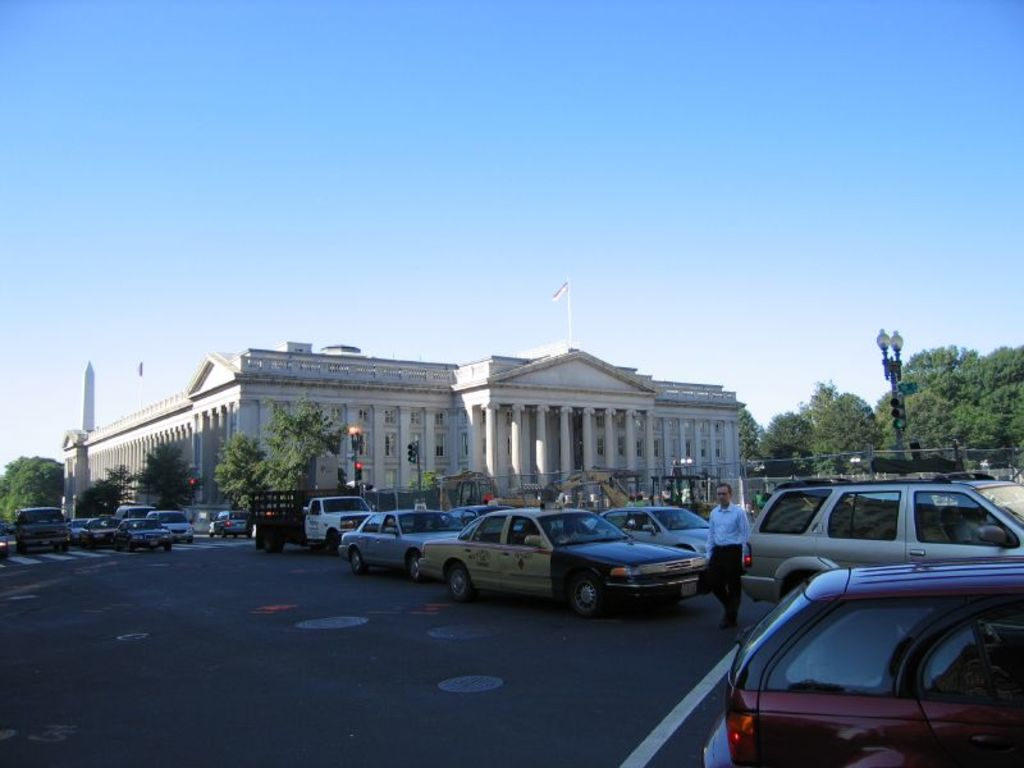Car: (0, 483, 1022, 766)
